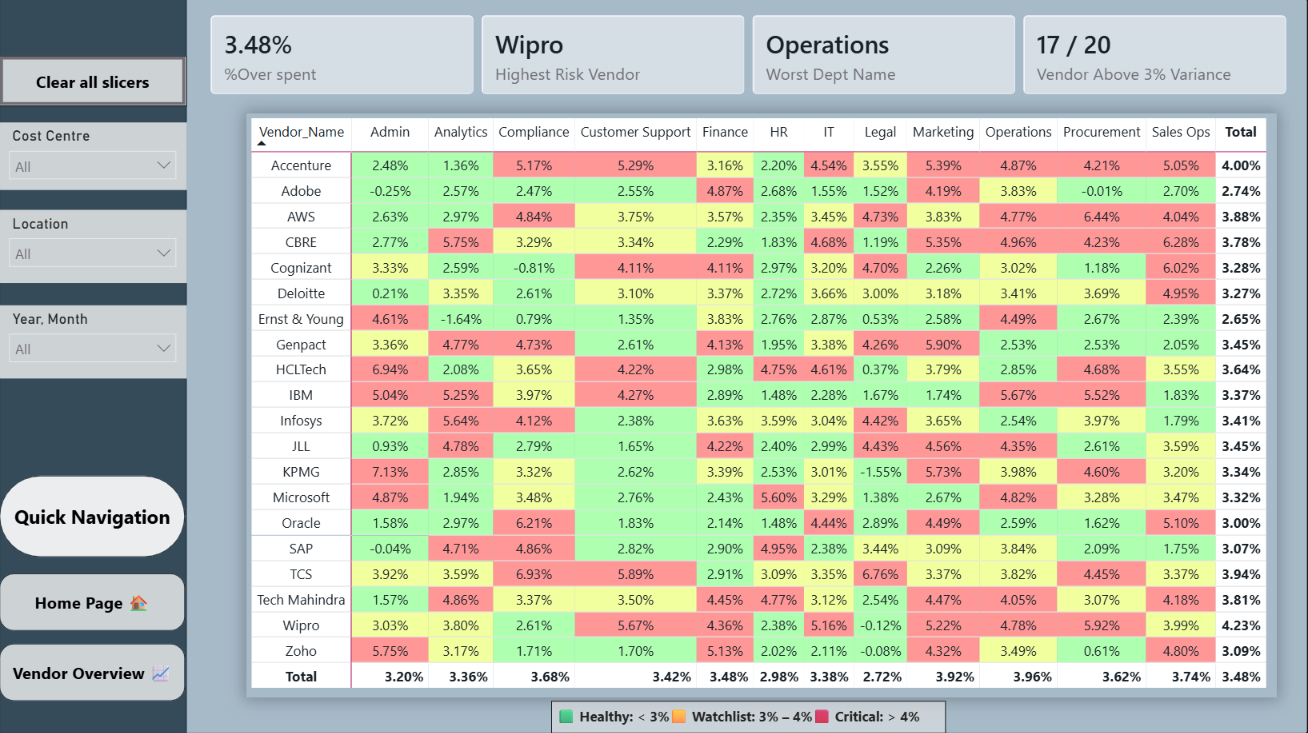

Layout of this report page (visuals, bound fields, positions):
{"tool":"powerbi","page":{"name":"Vendor Heatmap","canvas":[1280,720],"ordinal":2},"visuals":[{"type":"pivotTable","fields":{"Rows":["VENDOR.Vendor_Name"],"Columns":["DEPARTMENT.Department_Name"],"Values":["Measure Table.%Over spent"]},"box":[241.6,112,1007.7,571.6],"z":0},{"type":"cardVisual","fields":{"Data":["Measure Table.%Over spent","Measure Table.Highest Risk Vendor","Measure Table.Worst Dept Name","Measure Table.Vendor Above Target Text"]},"box":[190.2,0,1086.3,111.7],"z":1000},{"type":"shape","box":[0,0,183.4,719.6],"z":2000},{"type":"textbox","box":[540.4,687.9,386,31.7],"z":3000},{"type":"slicer","fields":{"Values":["COST_CENTRE.Cost_Centre_Name"]},"box":[0,121.3,183.3,66.2],"z":4000},{"type":"slicer","fields":{"Values":["DEPARTMENT.Location"]},"box":[0,206.8,183.3,71.7],"z":5000},{"type":"actionButton","box":[0,56.5,183.3,49.6],"z":6000},{"type":"slicer","fields":{"Values":["Calender.Date.Variation.Date Hierarchy.Year","Calender.Date.Variation.Date Hierarchy.Month"]},"box":[0,300.5,183.3,71.7],"z":7000},{"type":"shape","box":[0,562.4,182,56.5],"z":8000},{"type":"shape","box":[0,631.4,182,56.5],"z":9000},{"type":"shape","box":[0,467.3,182,80],"z":10000}]}

Visuals, with their boxes on the page's 1280x720 design canvas (x1, y1, x2, y2). These are canvas units, not pixel positions in the 1308x733 screenshot, which may show the page scaled, cropped or inside an application window:
pivotTable - VENDOR.Vendor_Name x DEPARTMENT.Department_Name: left=242, top=112, right=1249, bottom=684
cardVisual - Measure Table.%Over spent x Measure Table.Highest Risk Vendor: left=190, top=0, right=1276, bottom=112
shape: left=0, top=0, right=183, bottom=720
textbox: left=540, top=688, right=926, bottom=720
slicer - COST_CENTRE.Cost_Centre_Name: left=0, top=121, right=183, bottom=188
slicer - DEPARTMENT.Location: left=0, top=207, right=183, bottom=278
actionButton: left=0, top=56, right=183, bottom=106
slicer - Calender.Date.Variation.Date Hierarchy.Year x Calender.Date.Variation.Date Hierarchy.Month: left=0, top=300, right=183, bottom=372
shape: left=0, top=562, right=182, bottom=619
shape: left=0, top=631, right=182, bottom=688
shape: left=0, top=467, right=182, bottom=547
